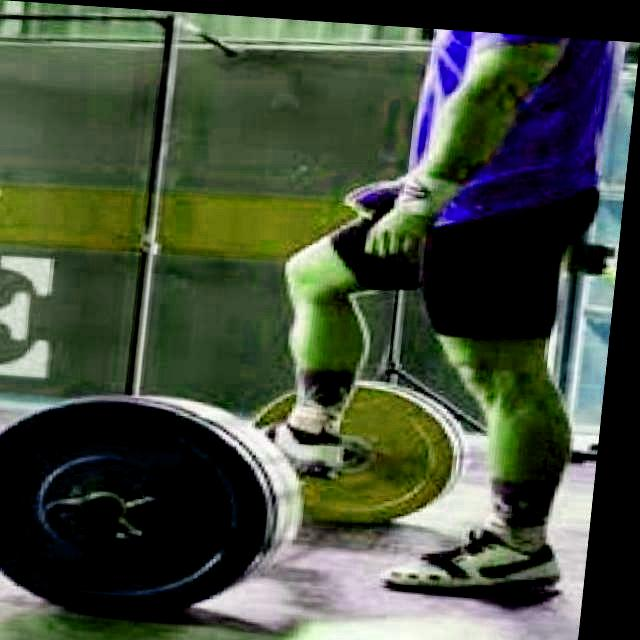barbell: (1, 380, 295, 632)
